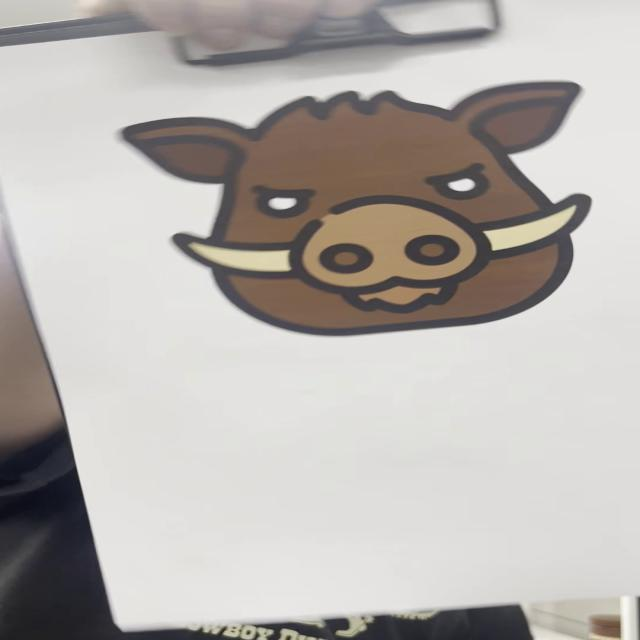animal: (111, 77, 604, 338)
